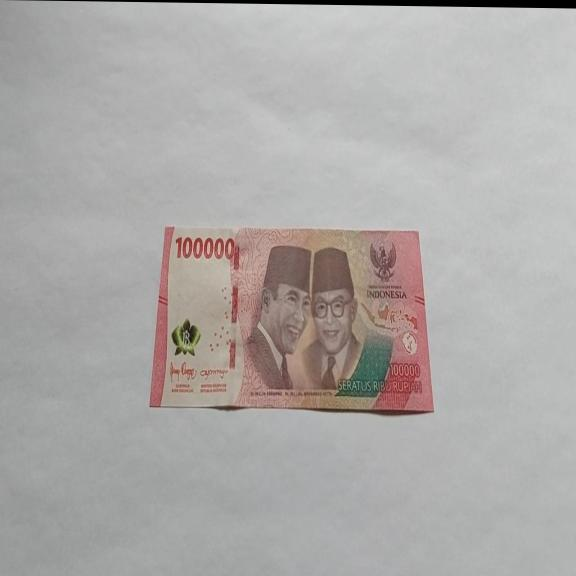Kertas: (149, 223, 435, 416), (174, 233, 236, 262)
